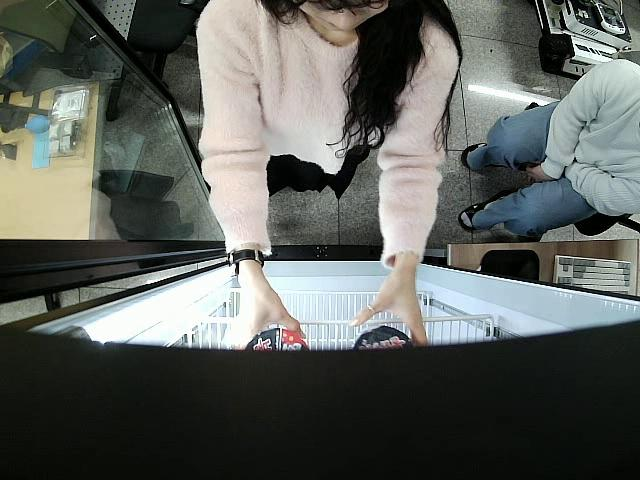00_hand: (349, 276, 427, 350), (233, 274, 307, 345)
08_buldak_S: (351, 326, 418, 355), (243, 326, 310, 353)
